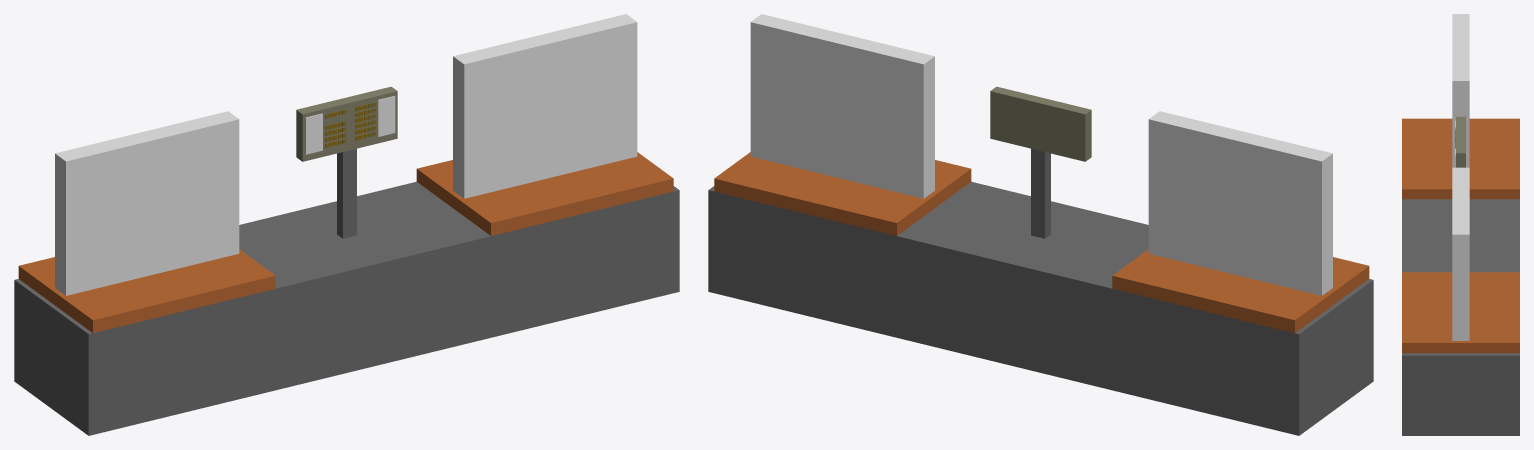
Rendered from expositor 3.fbx.
The picture shows the model from 3 angles, left to right: view 1: azimuth 30°, elevation 25°; view 2: azimuth 150°, elevation 25°; view 3: azimuth 270°, elevation 25°; orthographic projection. The views are drawn at different scales.
Parts seen in each view (by area): view 1: Expositor 3; view 2: Expositor 3; view 3: Expositor 3.
Boxes of the visible parts, x1,y1,x2,y2 form: Expositor 3: [14, 14, 679, 435]; Expositor 3: [708, 14, 1373, 435]; Expositor 3: [1402, 14, 1519, 435].
Size of the model in its own units: 817 by 329 by 178.
